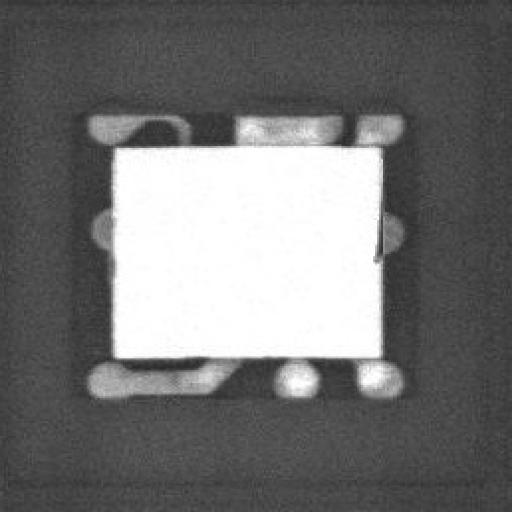DIE_BROKEN: (367, 212, 381, 266)
